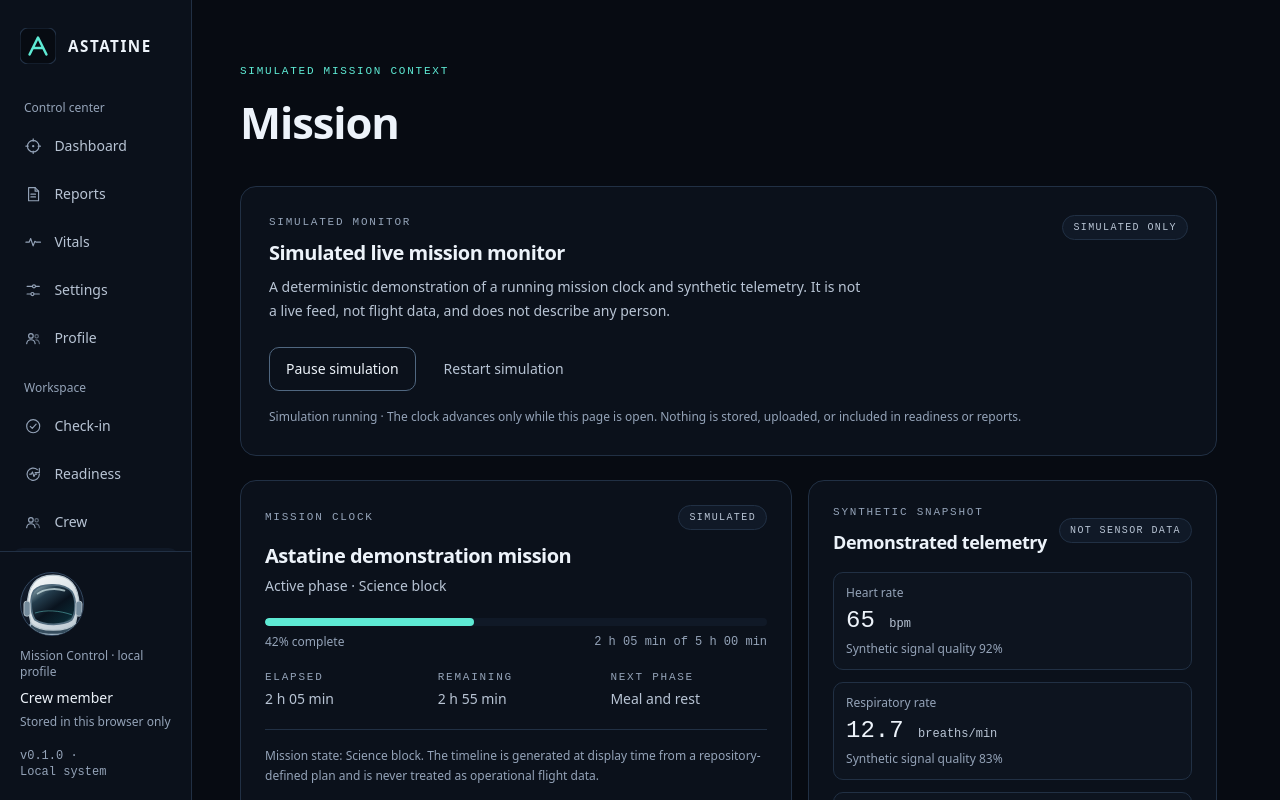
Test: MissionPage › renders the simulated monitor with a paused clock and no operational claims
This screenshot has width=1280, height=800.
Expected: the heading "Mission" is shown, [240, 92, 399, 152]
Expected: the heading "Simulated live mission monitor" is shown, [269, 239, 565, 266]
Click the button "Pause simulation". click: (342, 369)
box: [269, 347, 416, 391]
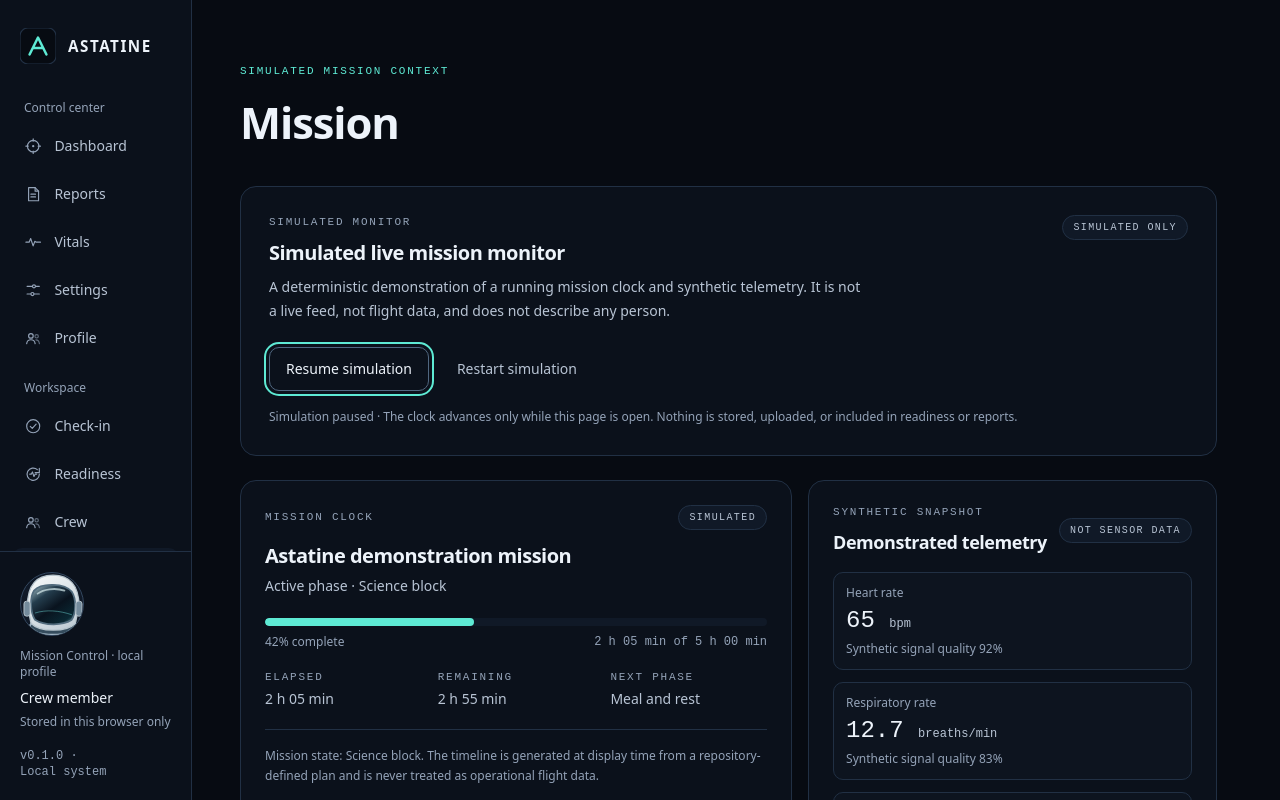
Expected: the button "Resume simulation" is shown
Expected: the text "Simulation paused" is shown, [269, 408, 374, 425]
Click the button "Resume simulation". click: (349, 369)
box: [269, 347, 429, 391]
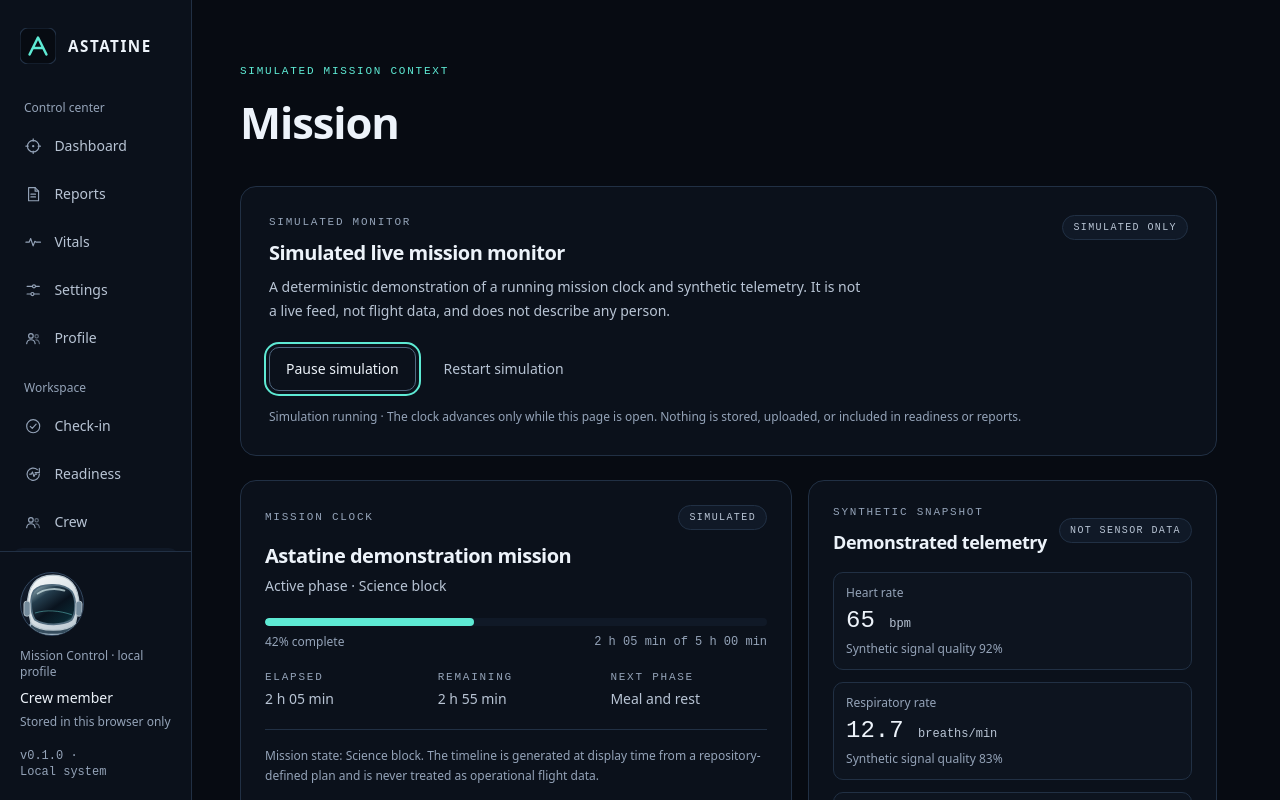
Expected: the button "Pause simulation" is shown, [269, 347, 416, 391]
